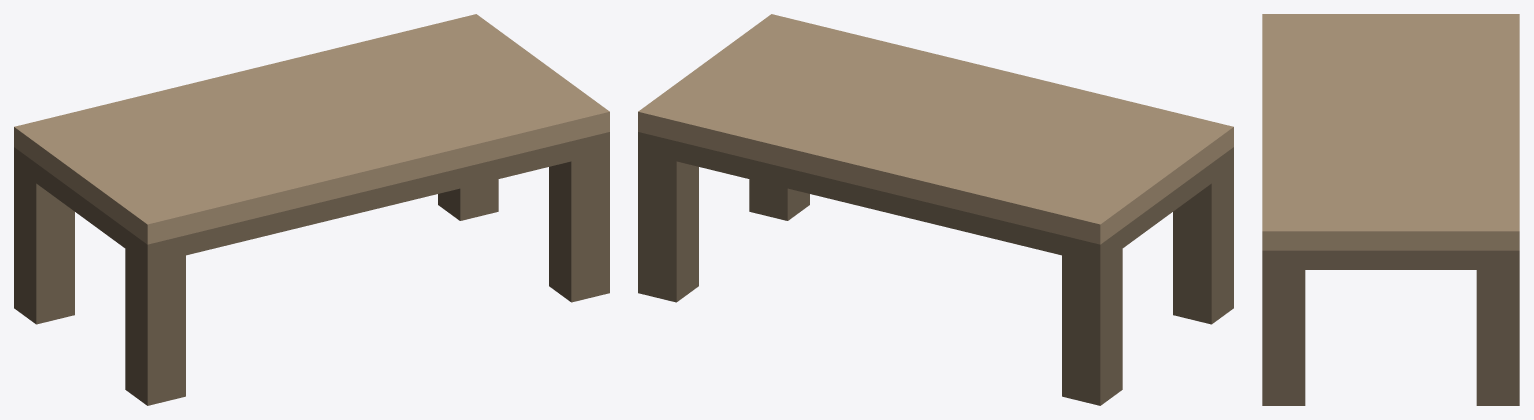
File: mesa_disenio_forja_unica_01.glb
The picture shows the model from 3 angles, left to right: view 1: azimuth 30°, elevation 25°; view 2: azimuth 150°, elevation 25°; view 3: azimuth 270°, elevation 25°; orthographic projection. The views are drawn at different scales.
Parts seen in each view (by area): view 1: mesa_disenio_forja_unica; view 2: mesa_disenio_forja_unica; view 3: mesa_disenio_forja_unica.
Part boxes in pixels (x1=…): mesa_disenio_forja_unica: x1=14, y1=14, x2=609, y2=405; mesa_disenio_forja_unica: x1=638, y1=14, x2=1233, y2=405; mesa_disenio_forja_unica: x1=1262, y1=14, x2=1519, y2=405.
Bounding box in the file's own units: 2 × 0.75 × 1.
